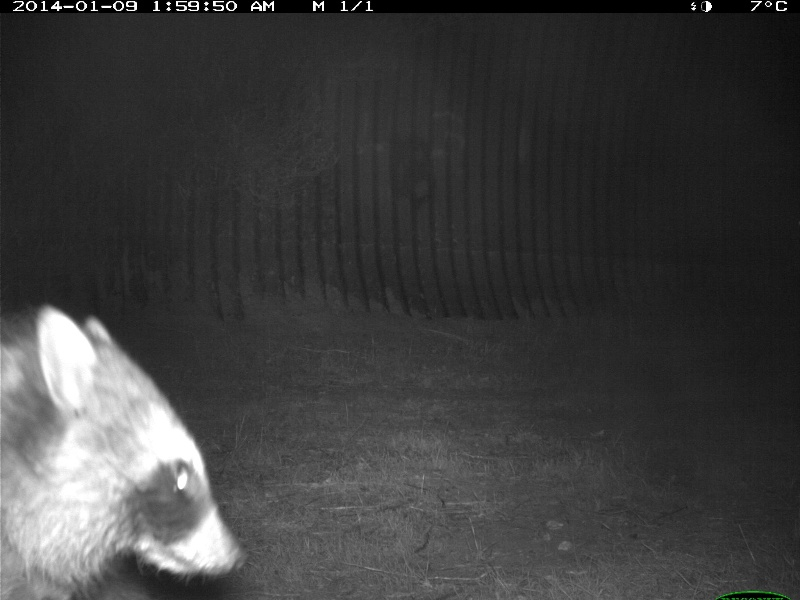raccoon: (1, 297, 252, 598)
